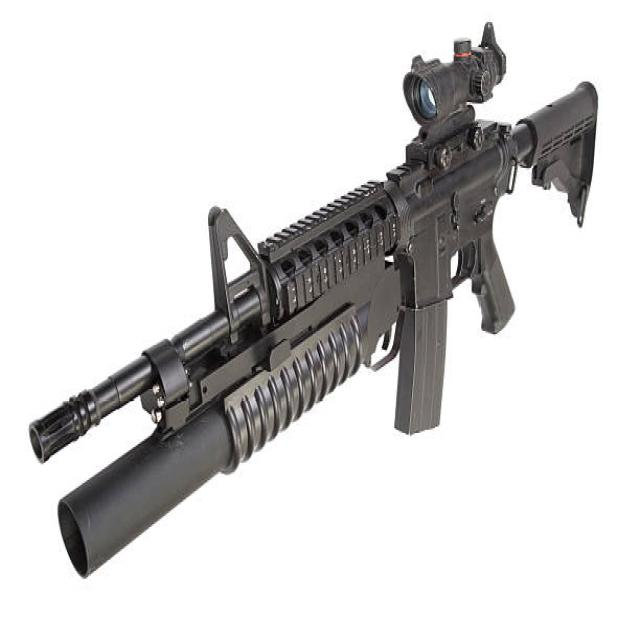rifle: (25, 10, 602, 586)
